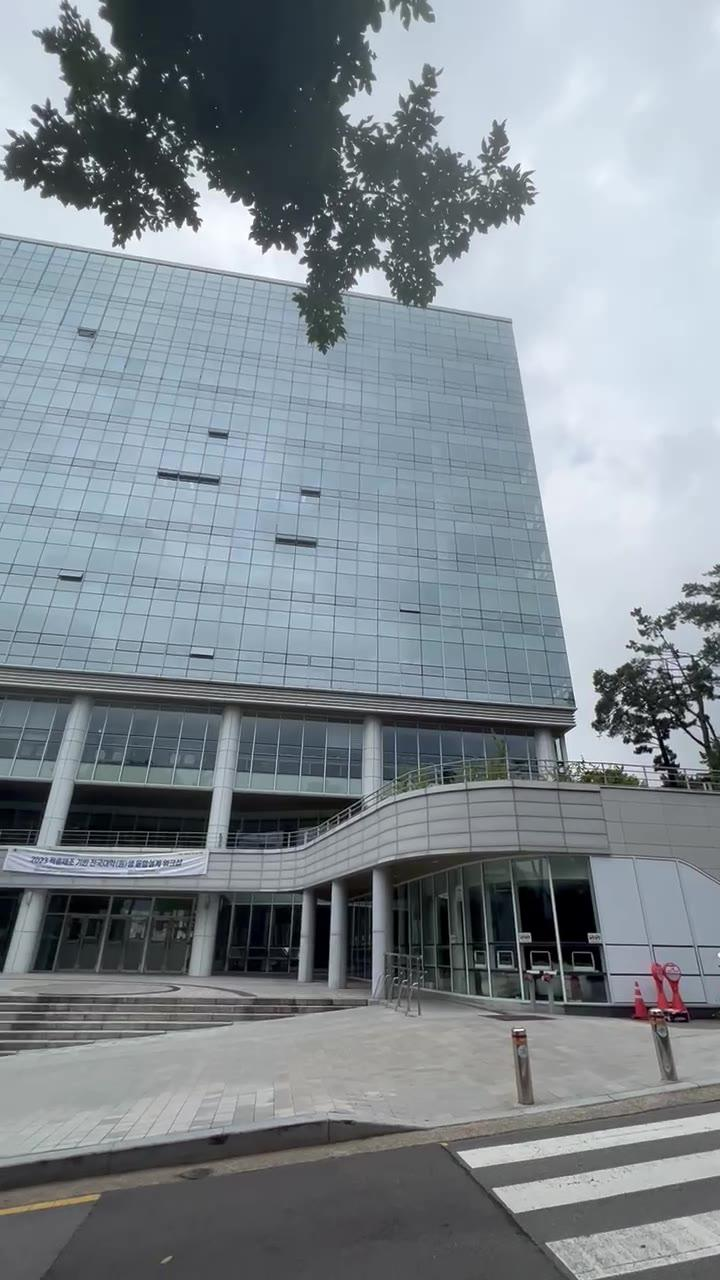building: (0, 268, 554, 974)
